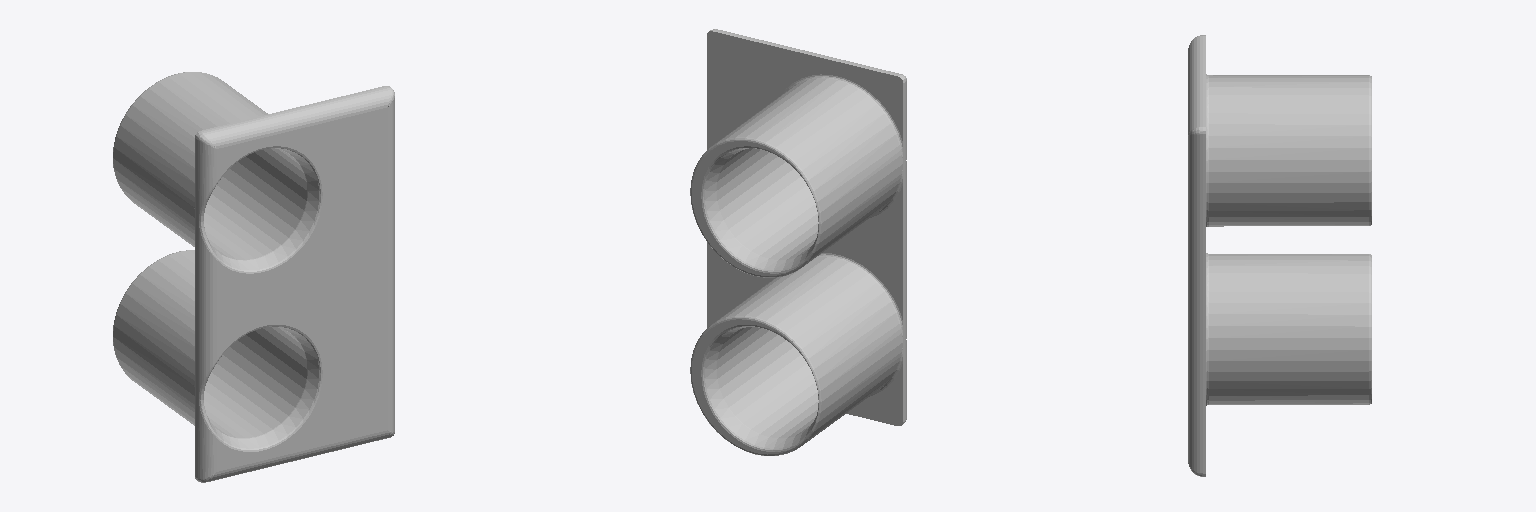
File: wall_passthrough.obj
The picture shows the model from 3 angles: view 1: azimuth 30°, elevation 25°; view 2: azimuth 150°, elevation 25°; view 3: azimuth 270°, elevation 25°; orthographic projection.
Parts seen in each view (by area): view 1: Solid1; view 2: Solid1; view 3: Solid1.
Boxes of the visible parts, x1,y1,x2,y2 form: Solid1: [113, 72, 394, 482]; Solid1: [690, 29, 906, 455]; Solid1: [1188, 35, 1371, 476].
Bounding box in the file's own units: 76.2 × 130 × 61.88.